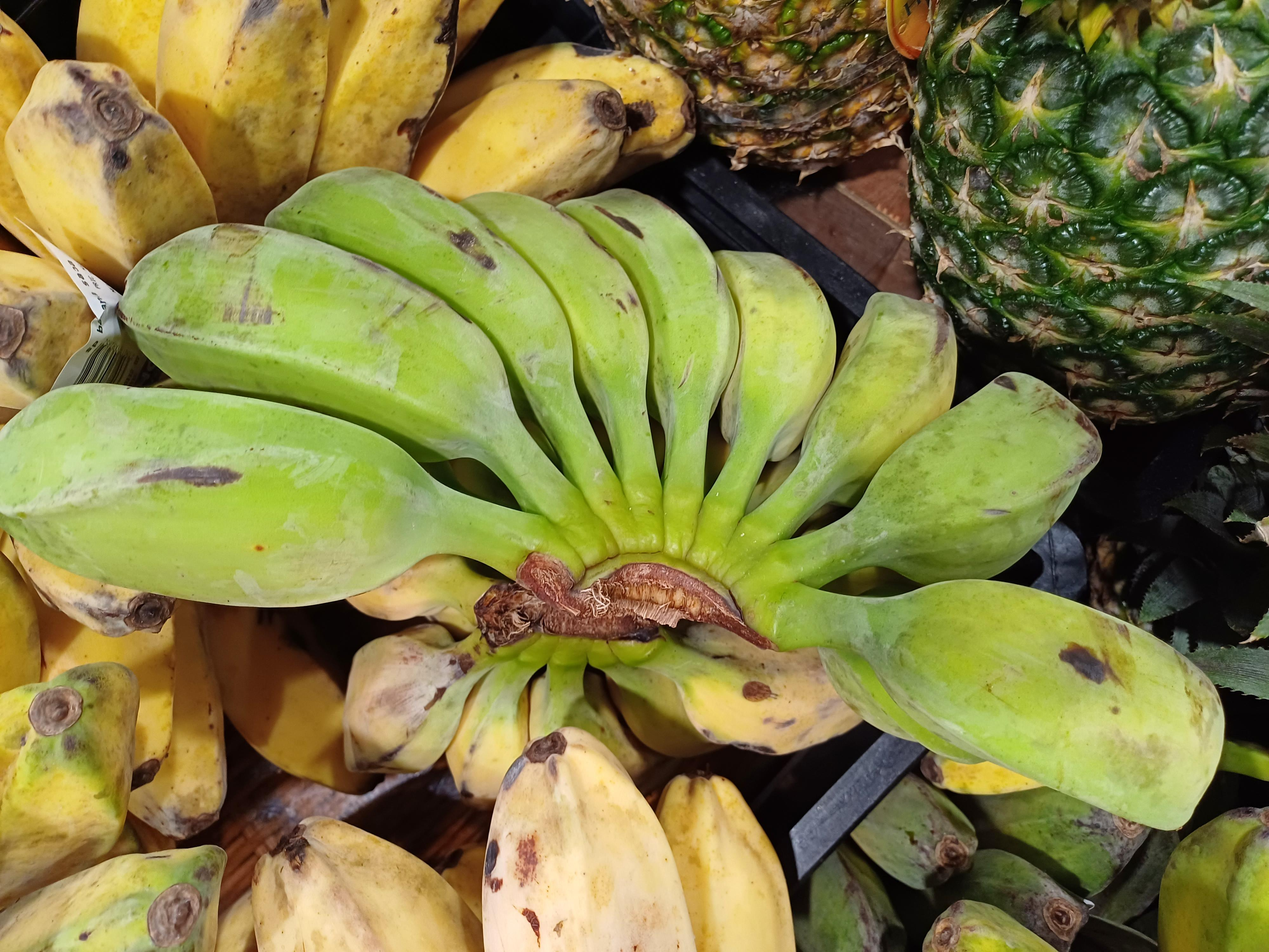ripe: (0, 0, 694, 410), (215, 726, 797, 952), (12, 538, 388, 840)
underripe: (0, 168, 1223, 829), (345, 620, 862, 807), (0, 549, 225, 952), (789, 769, 1152, 952)
